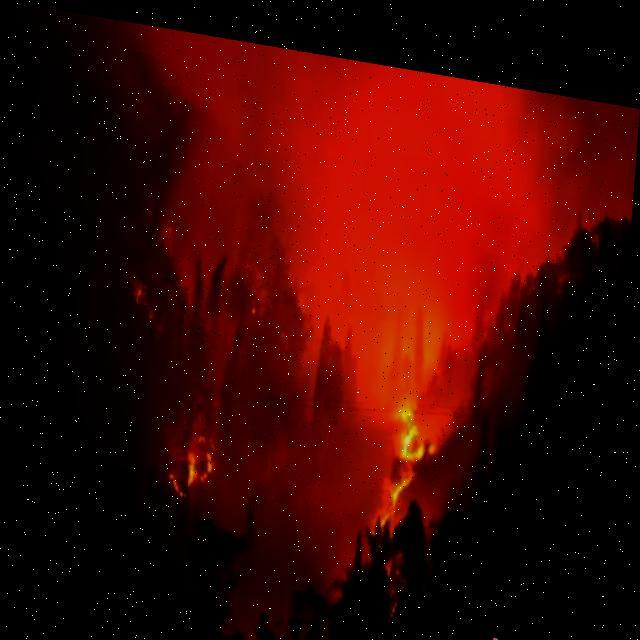Fire: (362, 365, 449, 601), (168, 400, 230, 500)
